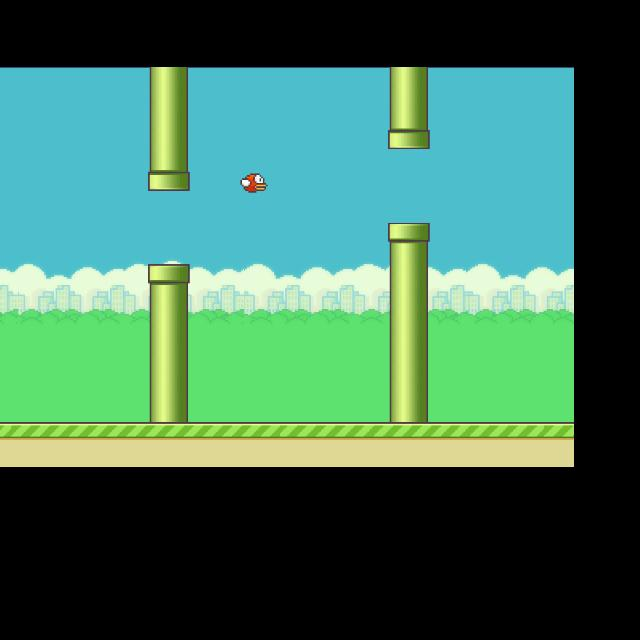bird: (240, 174, 268, 193)
pipedown: (388, 223, 429, 417), (147, 265, 189, 419)
pipeup: (148, 70, 190, 191), (388, 72, 429, 148)
